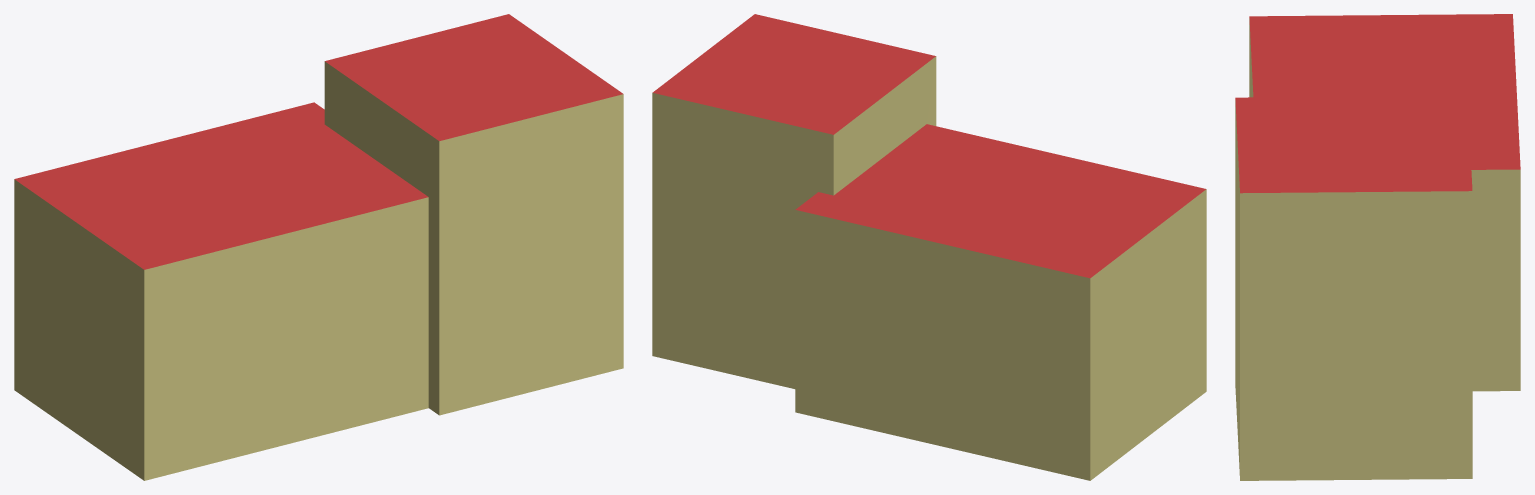
The picture shows the model from 3 angles, left to right: view 1: azimuth 30°, elevation 25°; view 2: azimuth 150°, elevation 25°; view 3: azimuth 270°, elevation 25°; orthographic projection. The views are drawn at different scales.
Bounding box in the file's own units: 22.04 × 10.82 × 12.05.
